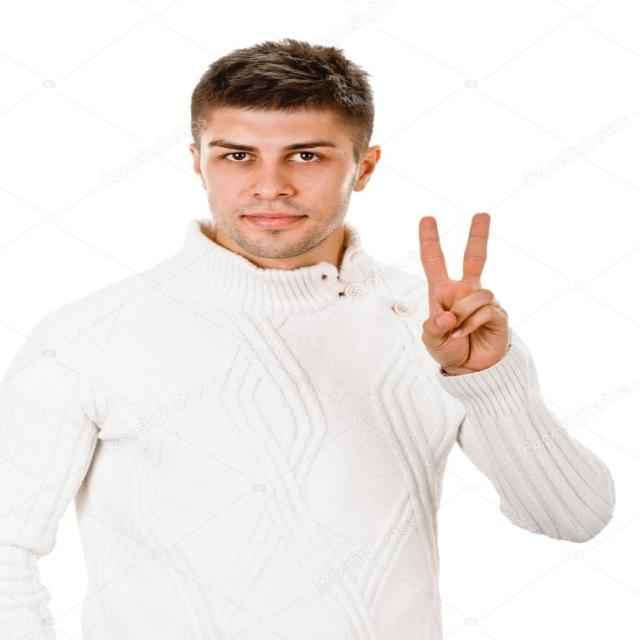Victory: (412, 201, 529, 376)
